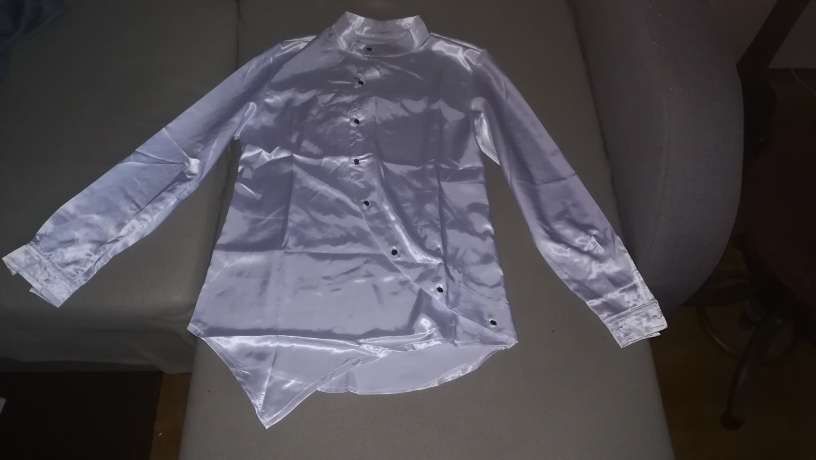shirts: (23, 18, 666, 416)
